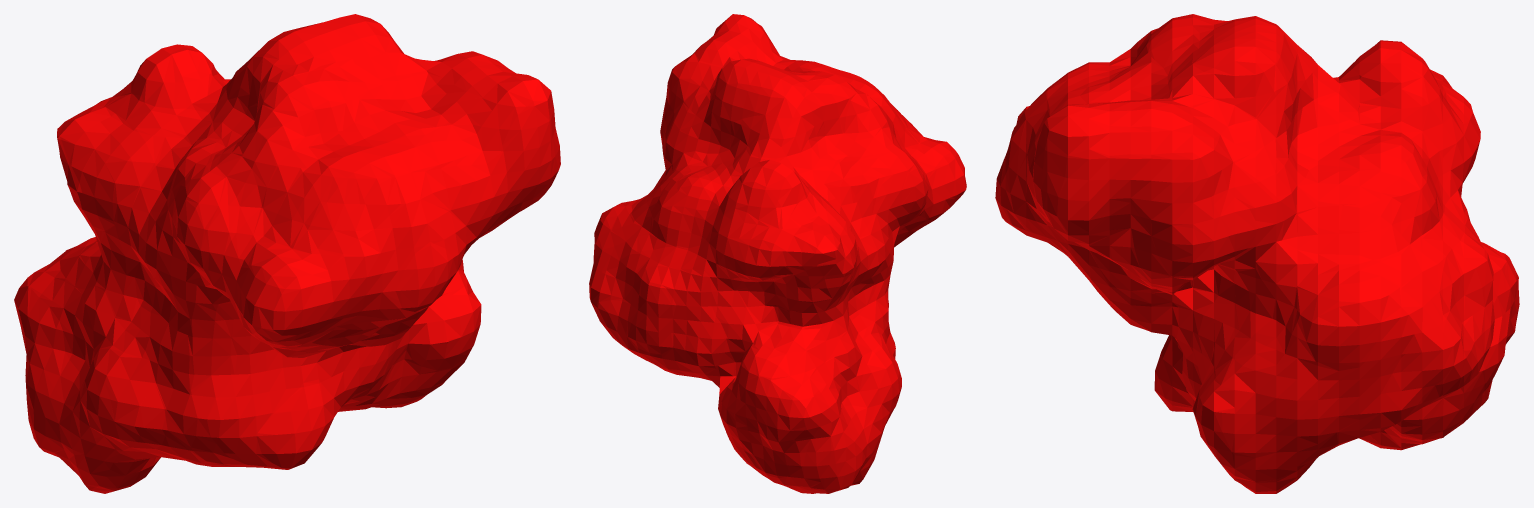
The model's file is maeA_coarse.dae.
3 views of the same model, side by side, from view 1: azimuth 30°, elevation 25°; view 2: azimuth 150°, elevation 25°; view 3: azimuth 270°, elevation 25° (orthographic). The views are drawn at different scales.
Visible parts, largest first — view 1: maeA; view 2: maeA; view 3: maeA.
Boxes of the visible parts, bbox=[...] form: maeA: bbox=[14, 14, 560, 493]; maeA: bbox=[589, 14, 966, 493]; maeA: bbox=[995, 14, 1519, 493].
Bounding box in the file's own units: 59.49 × 71.51 × 70.19.
